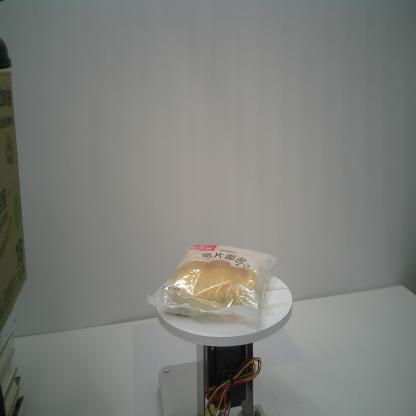Dessert: (146, 244, 278, 326)
